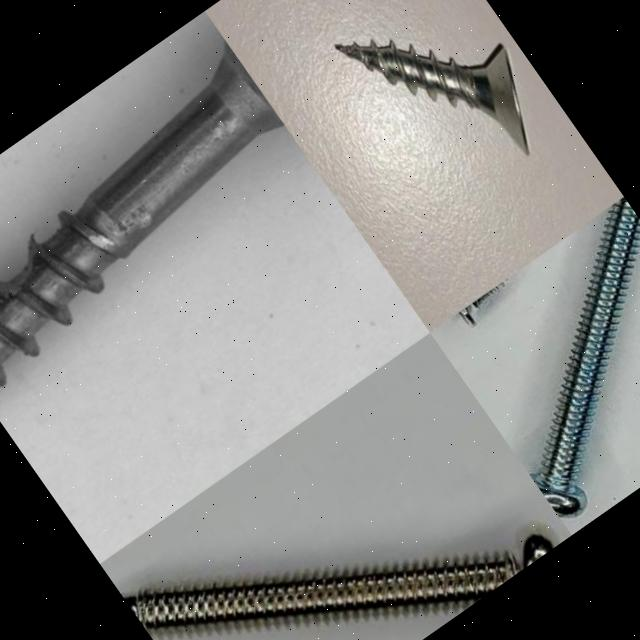Screw: (0, 10, 334, 426), (124, 533, 554, 635), (530, 196, 640, 517), (335, 40, 529, 155), (456, 279, 506, 327)
